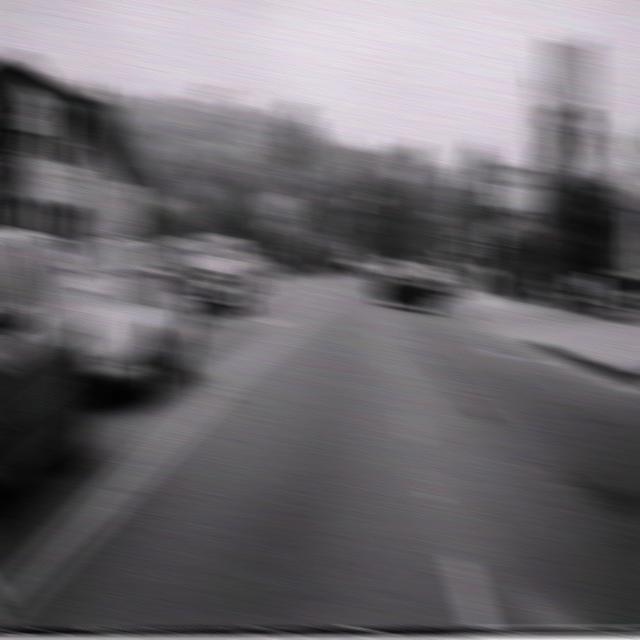speedLimit35: (484, 224, 506, 246)
